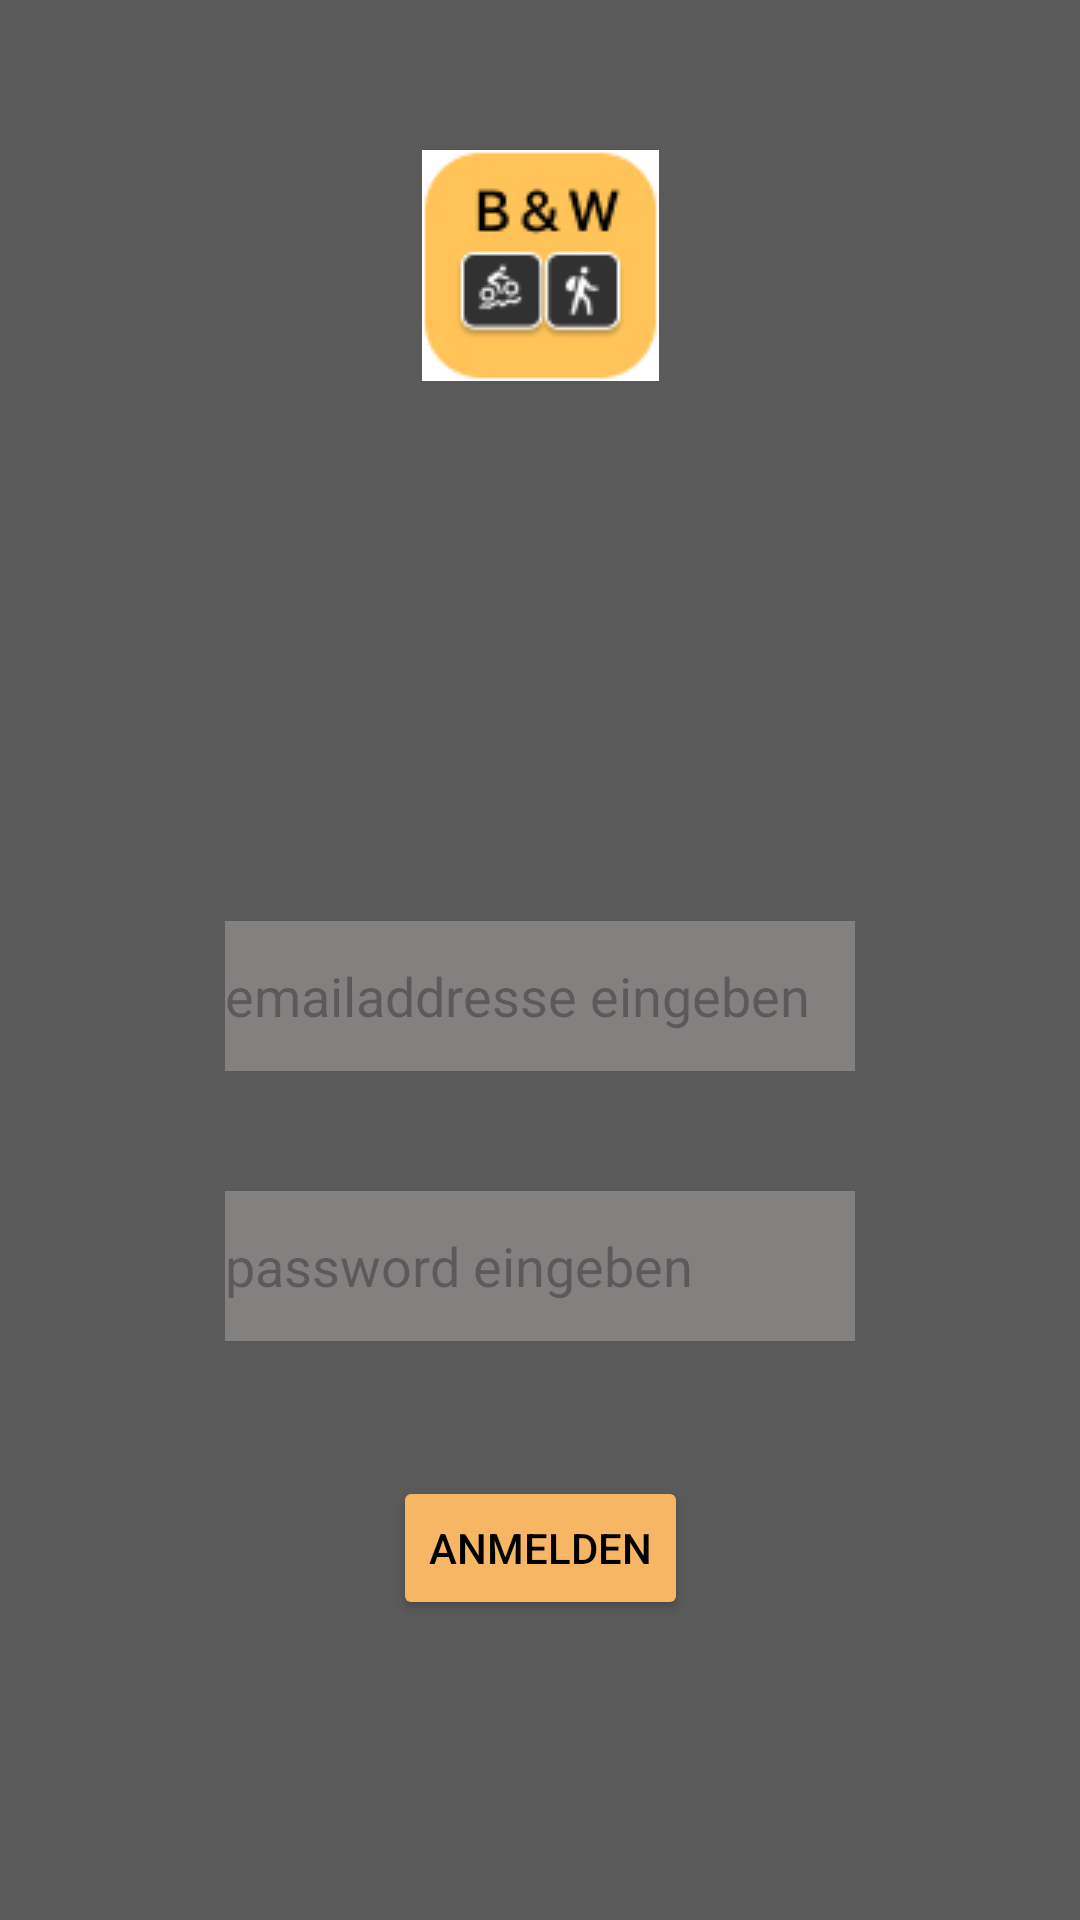

Icon bounding boxes for this 1080px×1920px phone screenshot, format (x1=x1, y1=y1, x2=x2, y2=y2):
app: (x1=422, y1=150, x2=659, y2=381)
